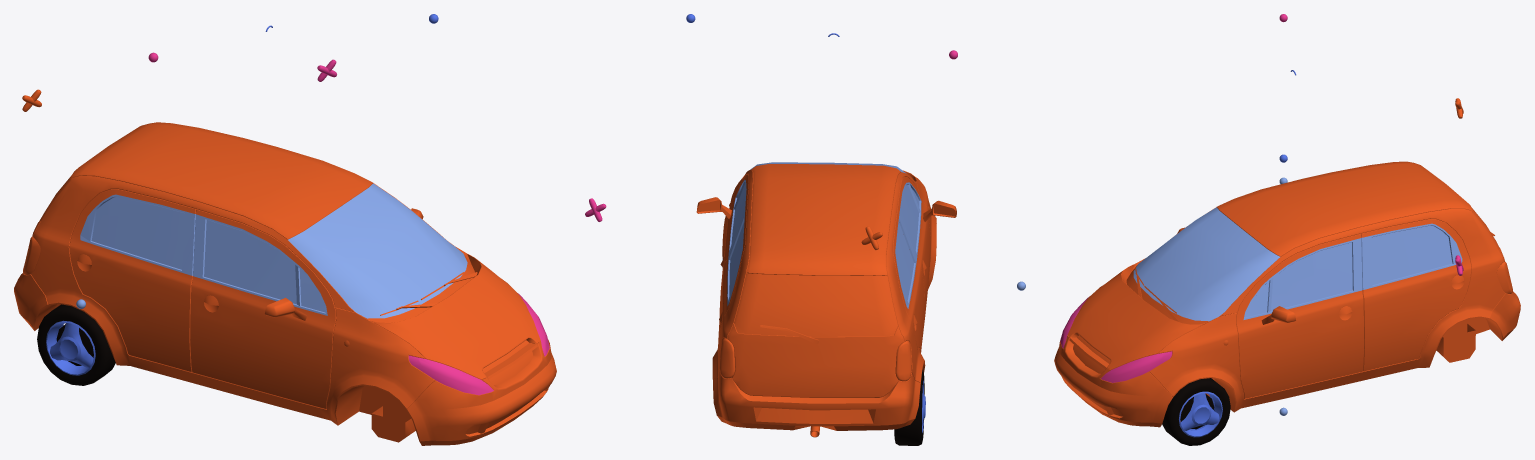
Rendered from autonomous-vehicle-3d-animated-icon-985041372734.glb.
The picture shows the model from 3 angles, left to right: view 1: azimuth 30°, elevation 25°; view 2: azimuth 150°, elevation 25°; view 3: azimuth 270°, elevation 25°; orthographic projection. The views are drawn at different scales.
Parts seen in each view (by area): view 1: car, Wheel_C002; view 2: car, Wheel_C002; view 3: car, Wheel_C.
Part boxes in pixels (<box>): car: <box>14,122,556,445</box>; Wheel_C002: <box>37,304,115,385</box>; car: <box>696,162,956,437</box>; Wheel_C002: <box>894,370,925,445</box>; car: <box>1054,161,1520,427</box>; Wheel_C: <box>1162,378,1230,445</box>.
Size of what is drawn, in the model's own units: 5.13 by 4.71 by 6.38.
